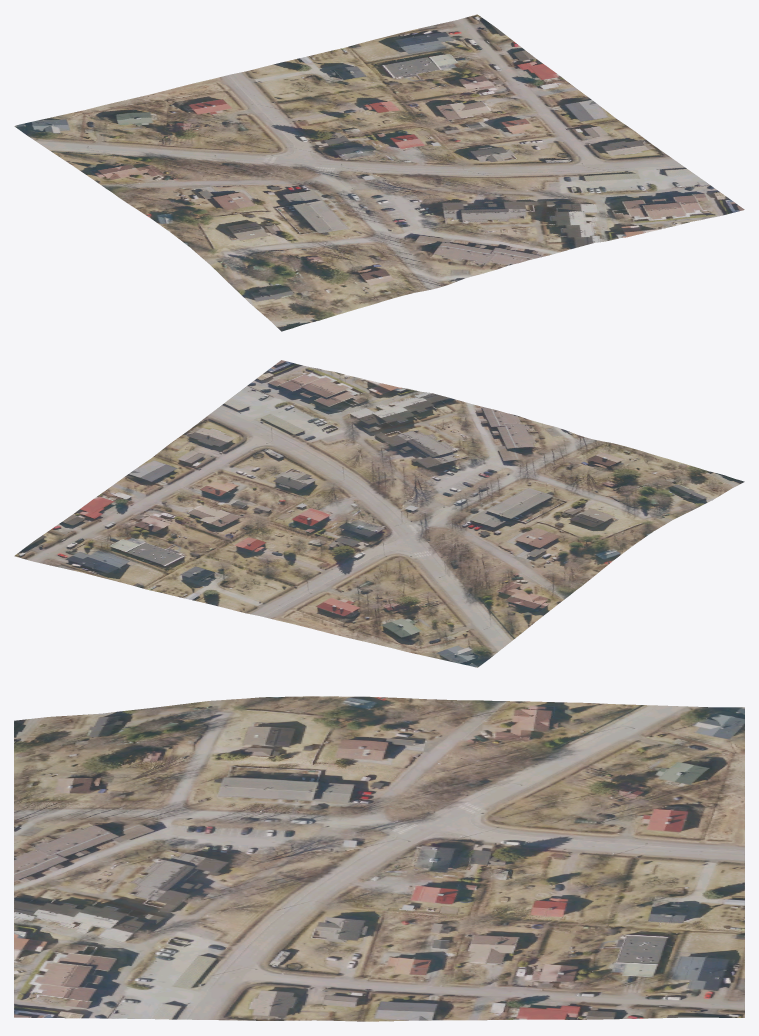
File: CM_Terrain_24491892_6818156.fbx
3 views of the same model, one above another, from view 1: azimuth 30°, elevation 25°; view 2: azimuth 150°, elevation 25°; view 3: azimuth 270°, elevation 25° (orthographic). The views are drawn at different scales.
Visible parts, largest first — view 1: CM_Terrain_24491892_6818156_LOD0; view 2: CM_Terrain_24491892_6818156_LOD0; view 3: CM_Terrain_24491892_6818156_LOD0.
Part boxes in pixels (left/top/right/bottom): CM_Terrain_24491892_6818156_LOD0: left=14, top=14, right=744, bottom=331; CM_Terrain_24491892_6818156_LOD0: left=14, top=360, right=744, bottom=667; CM_Terrain_24491892_6818156_LOD0: left=14, top=696, right=744, bottom=1021.
Size of what is drawn, in the model's own units: 205 by 7.76 by 205.
